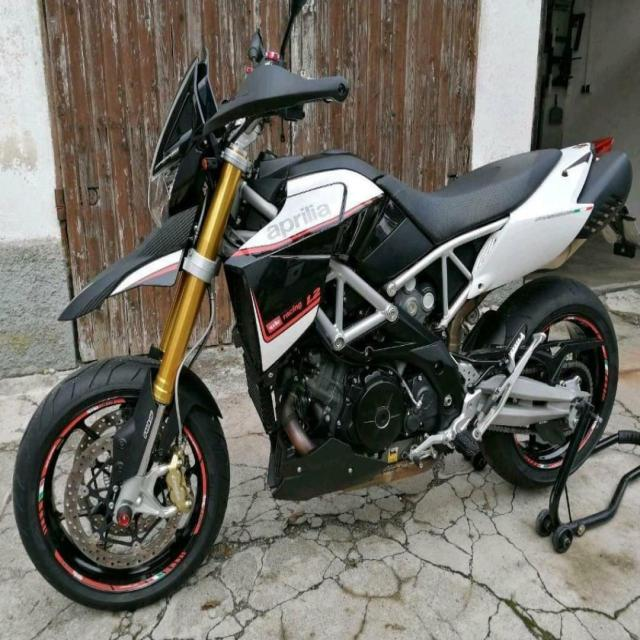Motorcycle: (14, 32, 632, 611)
